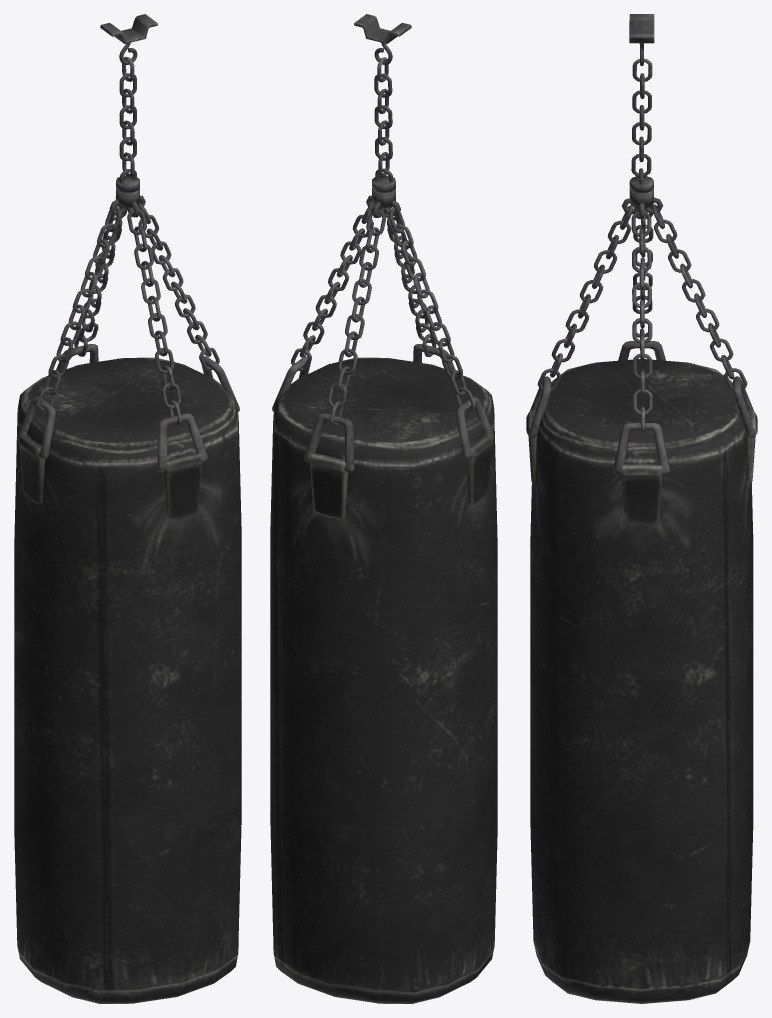
Rendered from boxing_bag.glb.
3 renders of one model, left to right at view 1: azimuth 30°, elevation 25°; view 2: azimuth 150°, elevation 25°; view 3: azimuth 270°, elevation 25°, orthographic.
Parts seen in each view (by area): view 1: holders_low; view 2: holders_low; view 3: holders_low.
Part boxes in pixels (box(x1,y1,x2,y2)): holders_low: box(14, 14, 241, 1003); holders_low: box(270, 14, 497, 1003); holders_low: box(526, 14, 757, 1003).
Size of the model in its own units: 0.5383 by 2.37 by 0.5305.
Materials: 1 (1 with a texture image).
